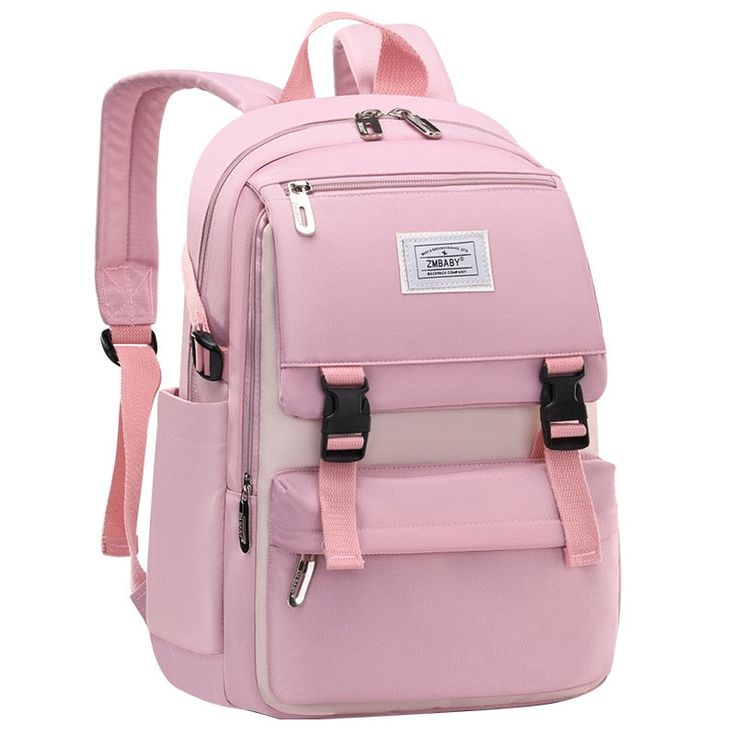nylon: (142, 90, 624, 722)
